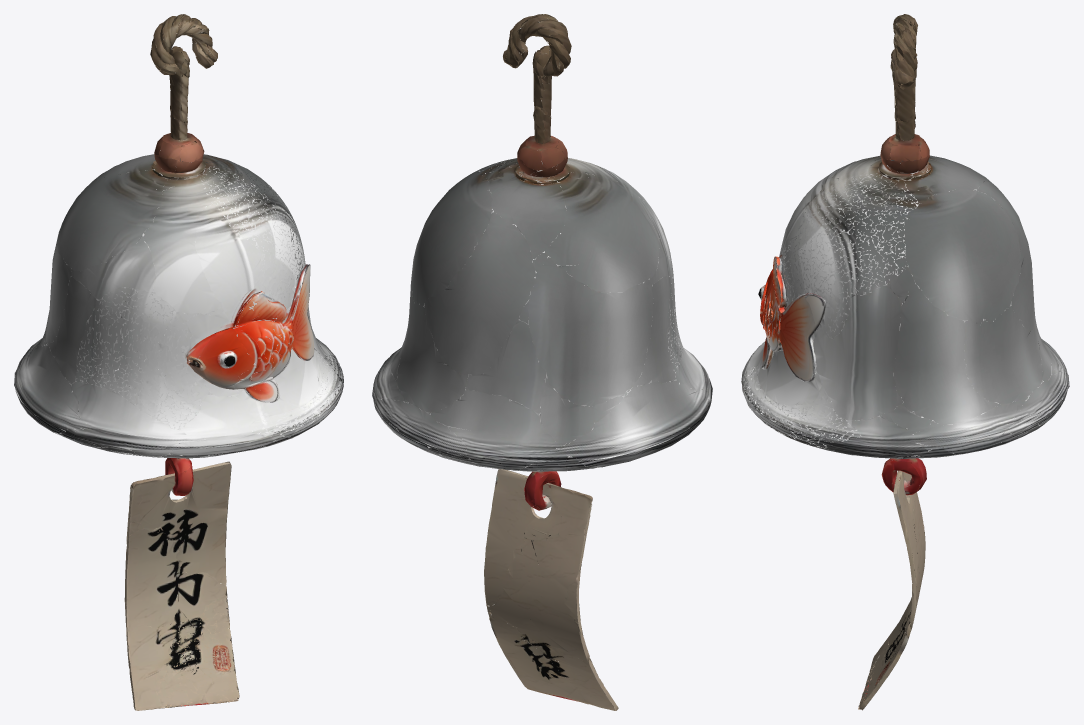
The model's file is chime.glb.
3 renders of one model, left to right at view 1: azimuth 30°, elevation 25°; view 2: azimuth 150°, elevation 25°; view 3: azimuth 270°, elevation 25°, orthographic. The views are drawn at different scales.
Parts seen in each view (by area): view 1: node_0; view 2: node_0; view 3: node_0.
Boxes of the visible parts, left/top/right/bottom form: node_0: left=14, top=14, right=343, bottom=710; node_0: left=372, top=14, right=712, bottom=710; node_0: left=741, top=14, right=1069, bottom=710.
Bounding box in the file's own units: 0.5236 × 1.19 × 0.5213.
1 material, 1 textured.
